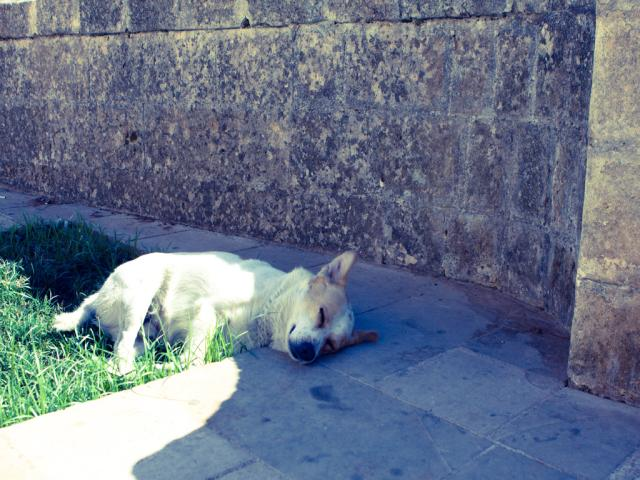Dog: (52, 251, 378, 386)
